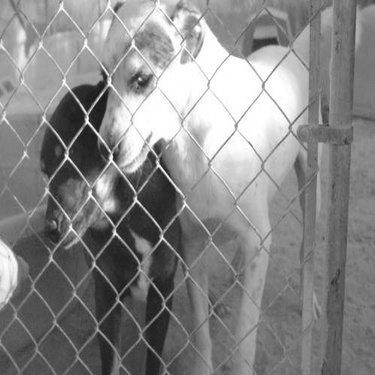dog: (88, 2, 371, 373), (11, 2, 222, 370)
